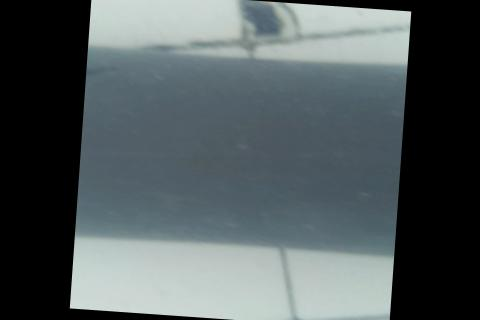keretakan: (85, 64, 110, 79)
